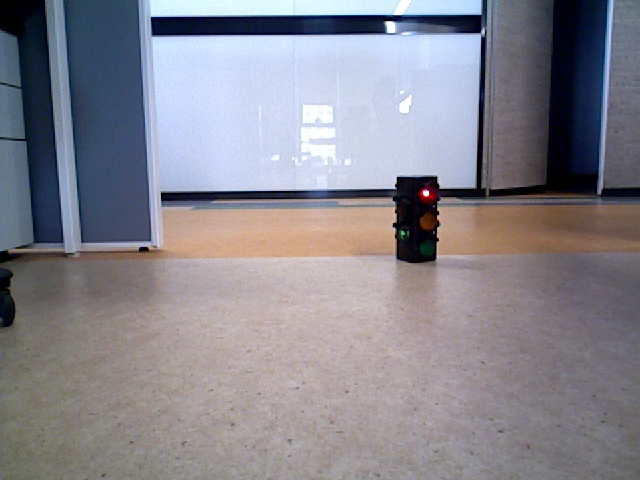red: (397, 176, 436, 260)
